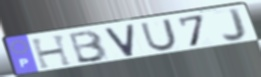7: (177, 13, 209, 48)
B: (68, 29, 110, 64)
H: (29, 32, 75, 70)
J: (221, 8, 249, 43)
U: (139, 17, 179, 52)
V: (103, 23, 136, 58)
